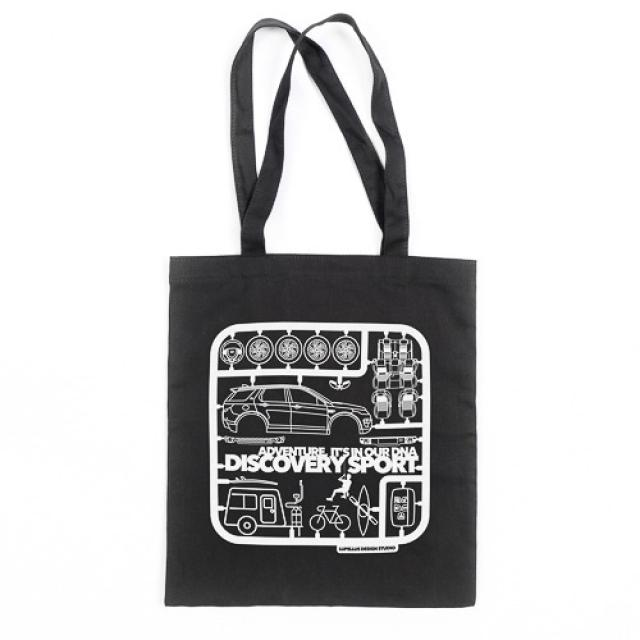ecobag: (131, 7, 494, 619)
